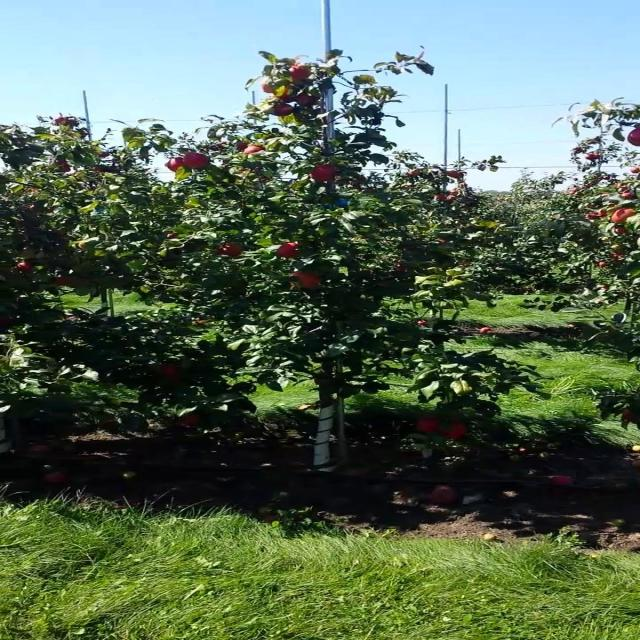apple: (291, 271, 322, 289), (309, 164, 338, 182), (440, 421, 467, 439), (182, 152, 209, 169), (218, 242, 244, 258), (611, 208, 636, 224), (273, 85, 296, 102), (416, 416, 440, 432), (178, 412, 202, 428), (276, 241, 298, 258), (289, 65, 311, 81), (158, 362, 180, 377), (271, 102, 293, 116), (296, 92, 318, 106), (276, 85, 291, 102), (620, 408, 638, 422), (164, 158, 182, 171), (627, 128, 640, 146), (242, 144, 264, 154), (260, 81, 276, 94), (53, 276, 73, 286), (16, 261, 33, 272), (18, 248, 36, 258), (611, 226, 629, 235), (620, 191, 636, 200), (167, 375, 182, 384), (236, 141, 249, 151), (76, 240, 88, 249), (167, 231, 178, 238)
